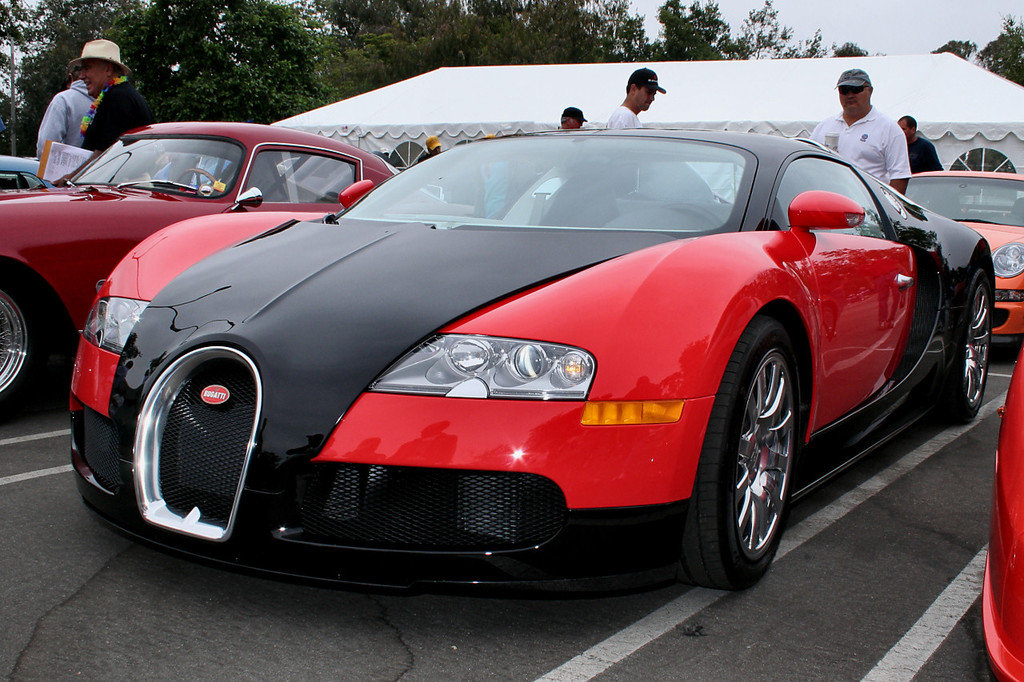mobil: (93, 141, 980, 646)
